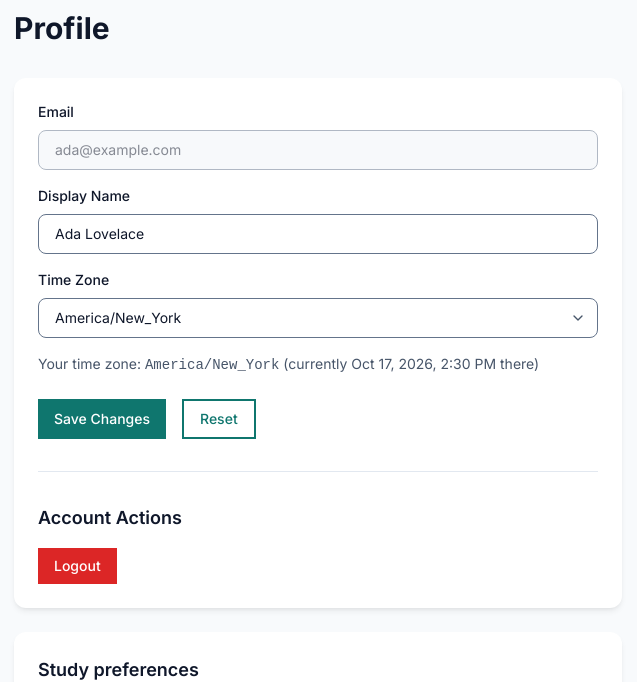
Test: ProfilePage time-zone editing (SP-106C) › updates the display line in real time when the selection changes, without saving (AC-106E-4)
Check: the text "Your time zone" shows "America/New_York", box [145, 357, 279, 373]
Select "Pacific/Auckland" in the dropdown labelled "Time Zone" at {"x": 318, "y": 318}, box [38, 298, 598, 338]
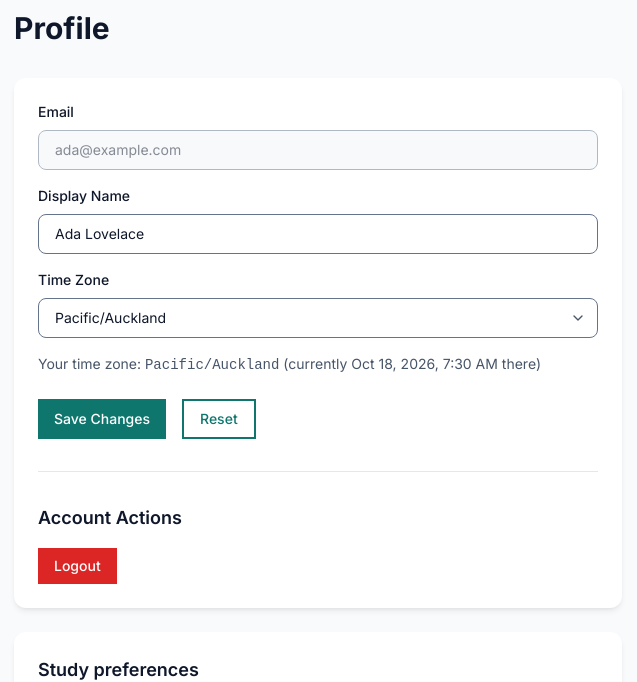
Check: the text "Your time zone" shows "Pacific/Auckland", box [145, 357, 279, 373]
